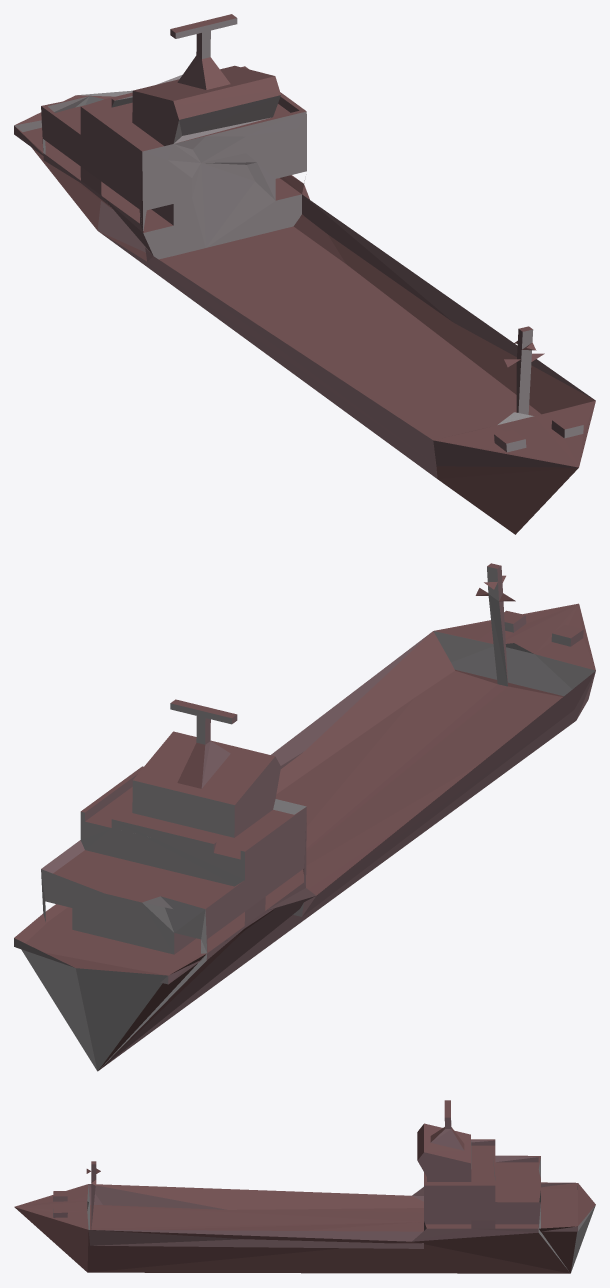
The model's file is cargo-ship.far-facades-v1.lod2.glb.
The picture shows the model from 3 angles, top to bottom: view 1: azimuth 30°, elevation 25°; view 2: azimuth 150°, elevation 25°; view 3: azimuth 270°, elevation 25°; orthographic projection. The views are drawn at different scales.
Parts seen in each view (by area): view 1: cargo-ship; view 2: cargo-ship; view 3: cargo-ship.
Part boxes in pixels (bbox=[...]): cargo-ship: bbox=[14, 14, 595, 534]; cargo-ship: bbox=[14, 563, 595, 1071]; cargo-ship: bbox=[14, 1100, 595, 1273].
Bounding box in the file's own units: 13.17 × 21.8 × 69.79.
